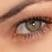eye: (25, 21, 41, 31)
